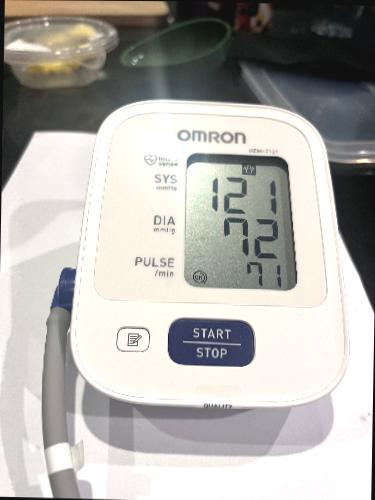bpm: (178, 150, 303, 290)
